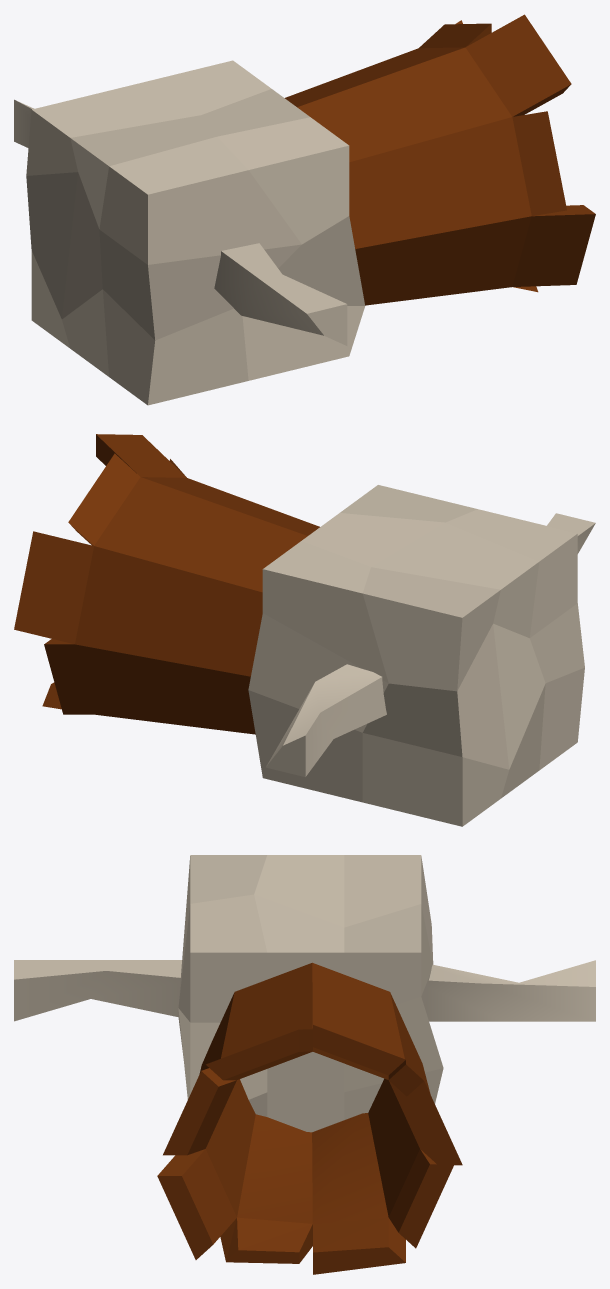
The model's file is Tourelle.FBX.
3 views of the same model, one above another, from view 1: azimuth 30°, elevation 25°; view 2: azimuth 150°, elevation 25°; view 3: azimuth 270°, elevation 25° (orthographic).
Visible parts, largest first — view 1: Box687, Cylinder155, Box688, Box689; view 2: Box687, Cylinder155, Box689, Box688; view 3: Cylinder155, Box687, Box689, Box688.
Boxes of the visible parts, x1=… form: Box687: x1=26, y1=60, x2=365, y2=405; Cylinder155: x1=285, y1=14, x2=595, y2=305; Box688: x1=214, y1=243, x2=347, y2=345; Box689: x1=14, y1=99, x2=34, y2=147; Box687: x1=248, y1=485, x2=584, y2=826; Cylinder155: x1=14, y1=434, x2=319, y2=734; Box689: x1=266, y1=664, x2=386, y2=777; Box688: x1=547, y1=513, x2=595, y2=553; Cylinder155: x1=157, y1=962, x2=462, y2=1274; Box687: x1=178, y1=855, x2=443, y2=1132; Box689: x1=425, y1=960, x2=595, y2=1021; Box688: x1=14, y1=960, x2=181, y2=1021.
Bounding box in the file's own units: 215 × 115 × 248.
